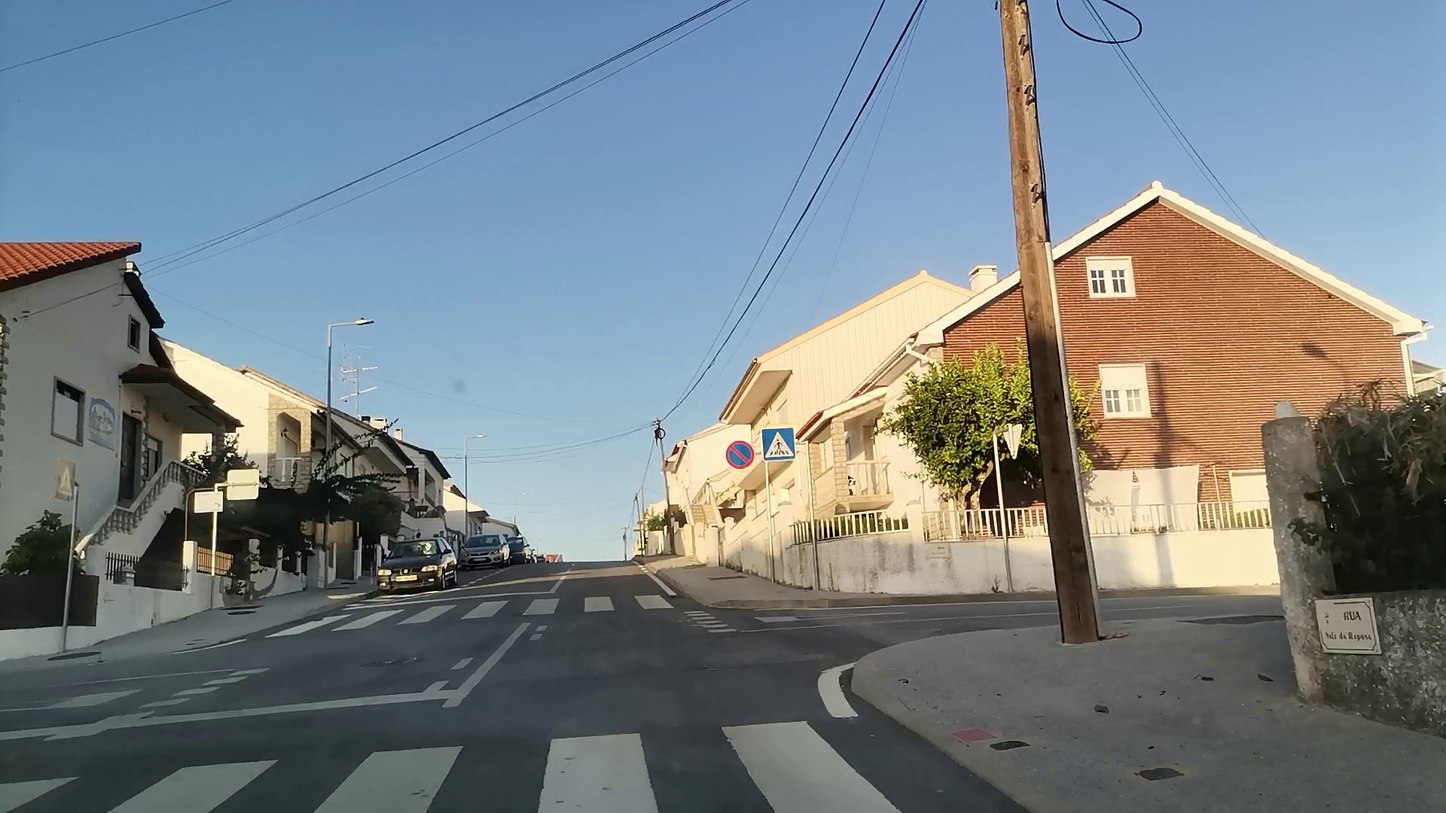Stairs: (287, 591, 679, 630)
